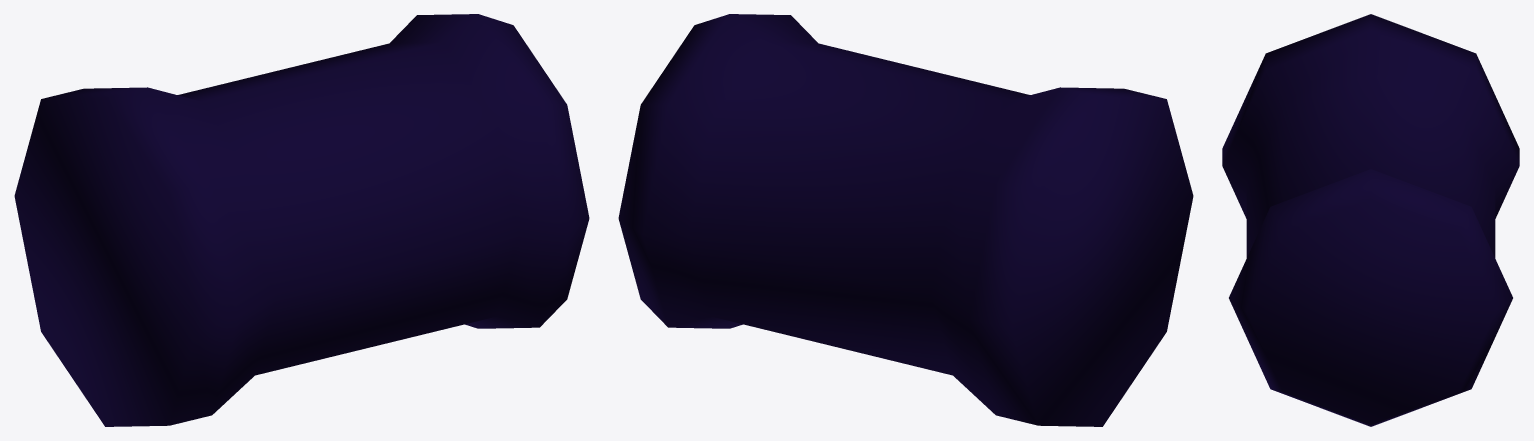
The model's file is waterPump.fbx.
3 views of the same model, side by side, from view 1: azimuth 30°, elevation 25°; view 2: azimuth 150°, elevation 25°; view 3: azimuth 270°, elevation 25° (orthographic). The views are drawn at different scales.
Parts seen in each view (by area): view 1: waterPump; view 2: waterPump; view 3: waterPump.
Boxes of the visible parts, box(x1,y1,x2,y2) form: waterPump: box(14, 14, 589, 426); waterPump: box(618, 14, 1193, 426); waterPump: box(1222, 14, 1519, 426).
Size of the model in its own units: 10.31 by 7.94 by 7.94.
